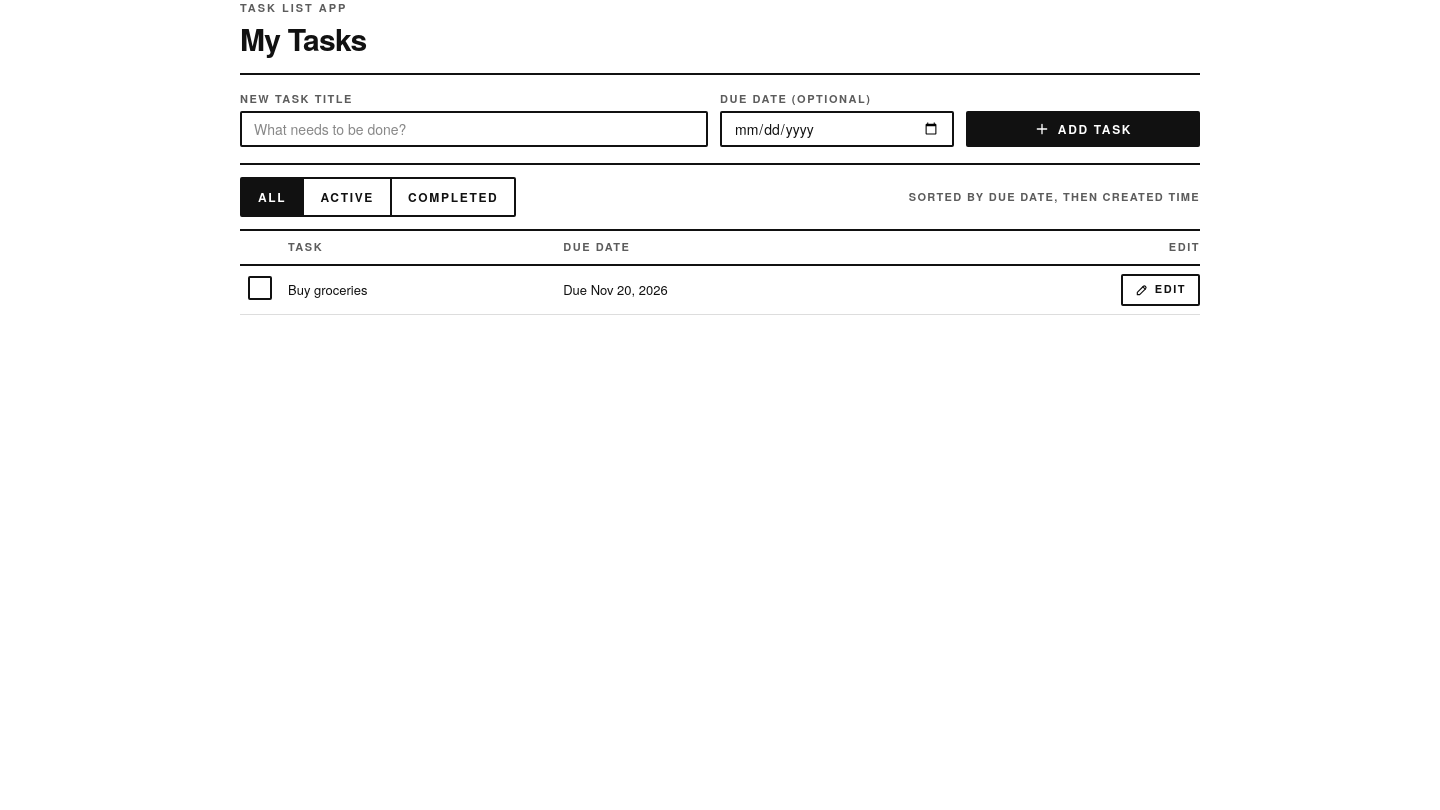
Test: Tasks screen › [handleSave] shows the API validation detail when PATCH /tasks/{id} returns 400
expect the text "Buy groceries" is shown: met, box 288,280 -> 367,299
Click the button named "Edit \"Buy groceries\"". click: coordinates (1160, 290)
box: 1121,274 -> 1200,306
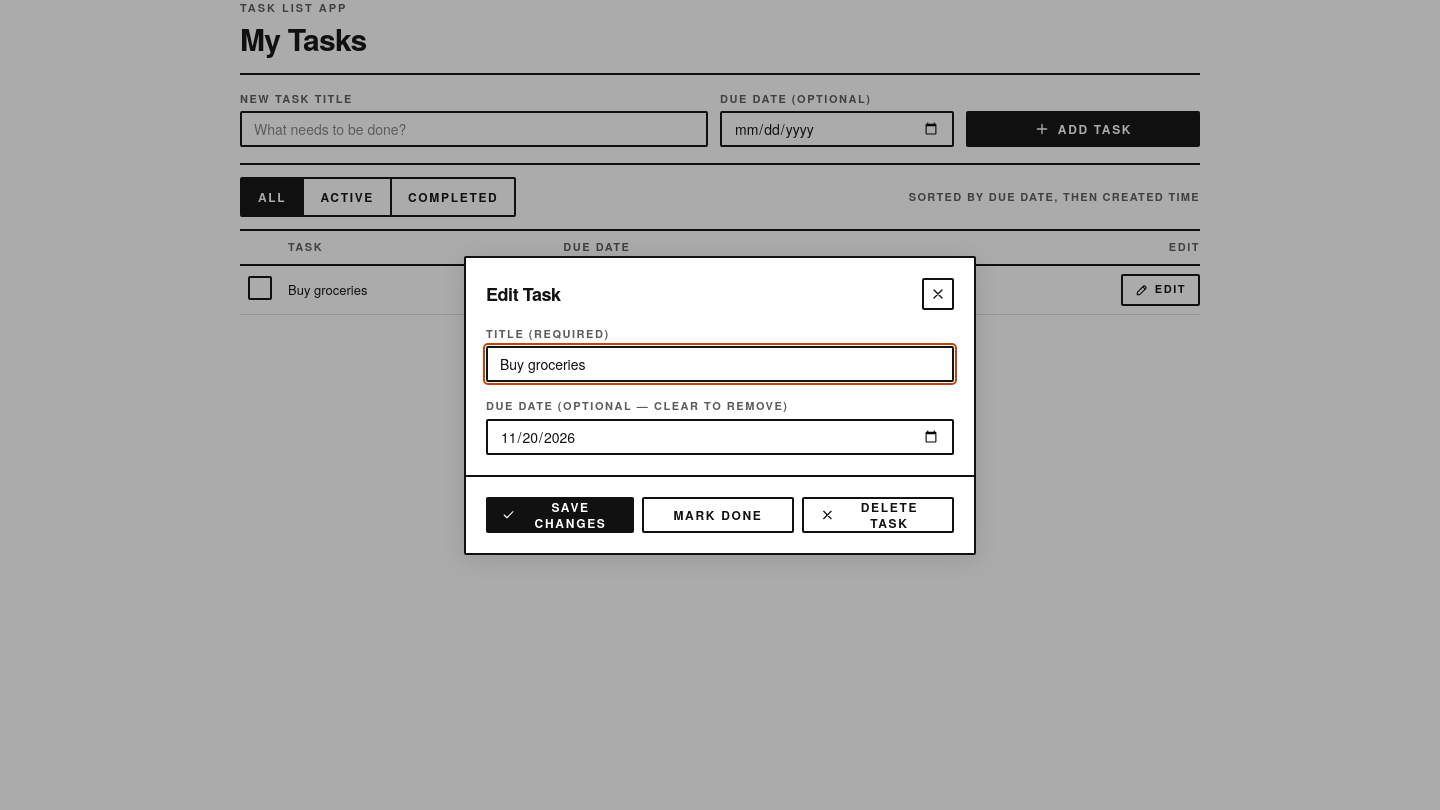
Replace the text in the field labelled "Title (required)" with "New title". click: coordinates (720, 364)
box: 486,346 -> 954,382
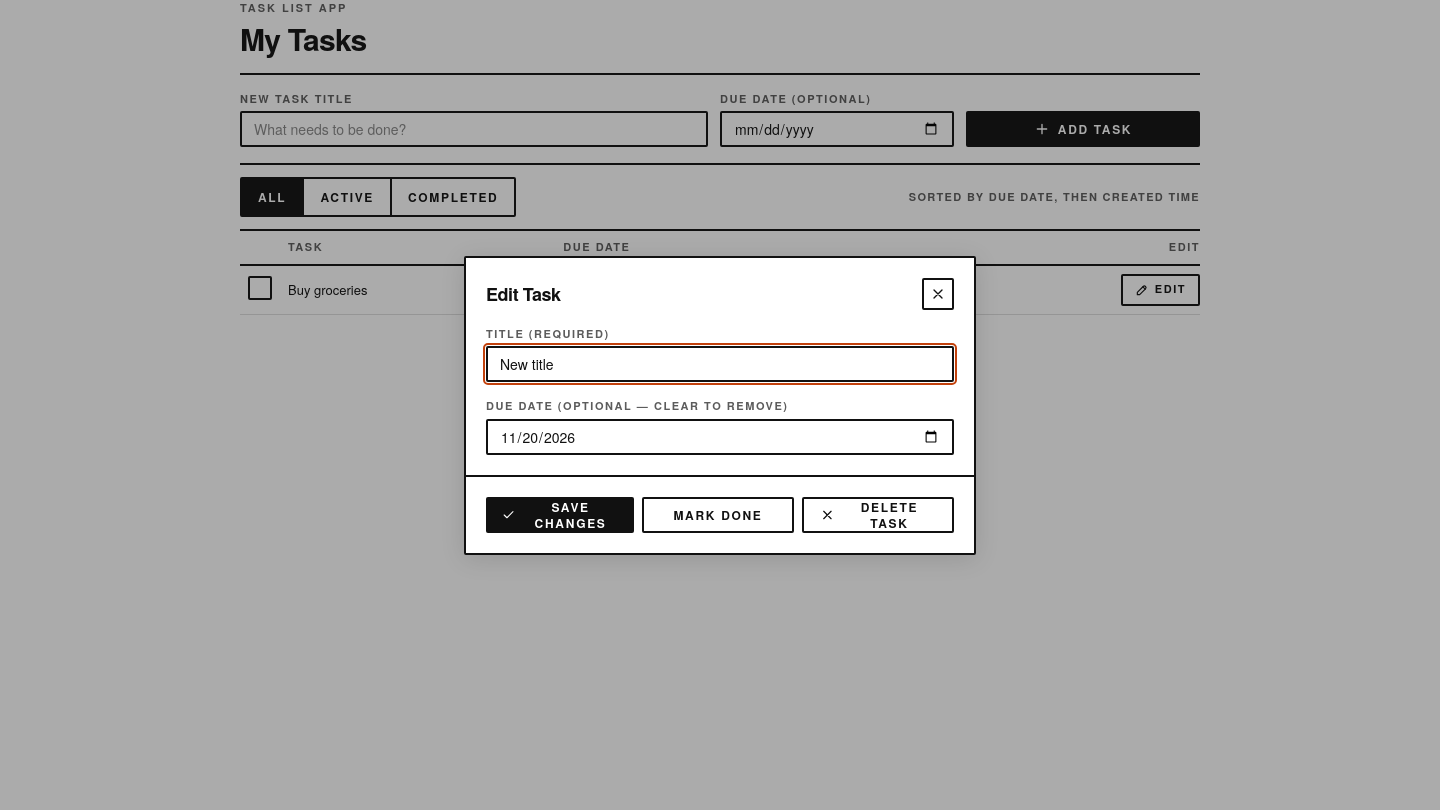
Click the button "Save Changes". click: coordinates (560, 514)
box: 486,496 -> 634,532
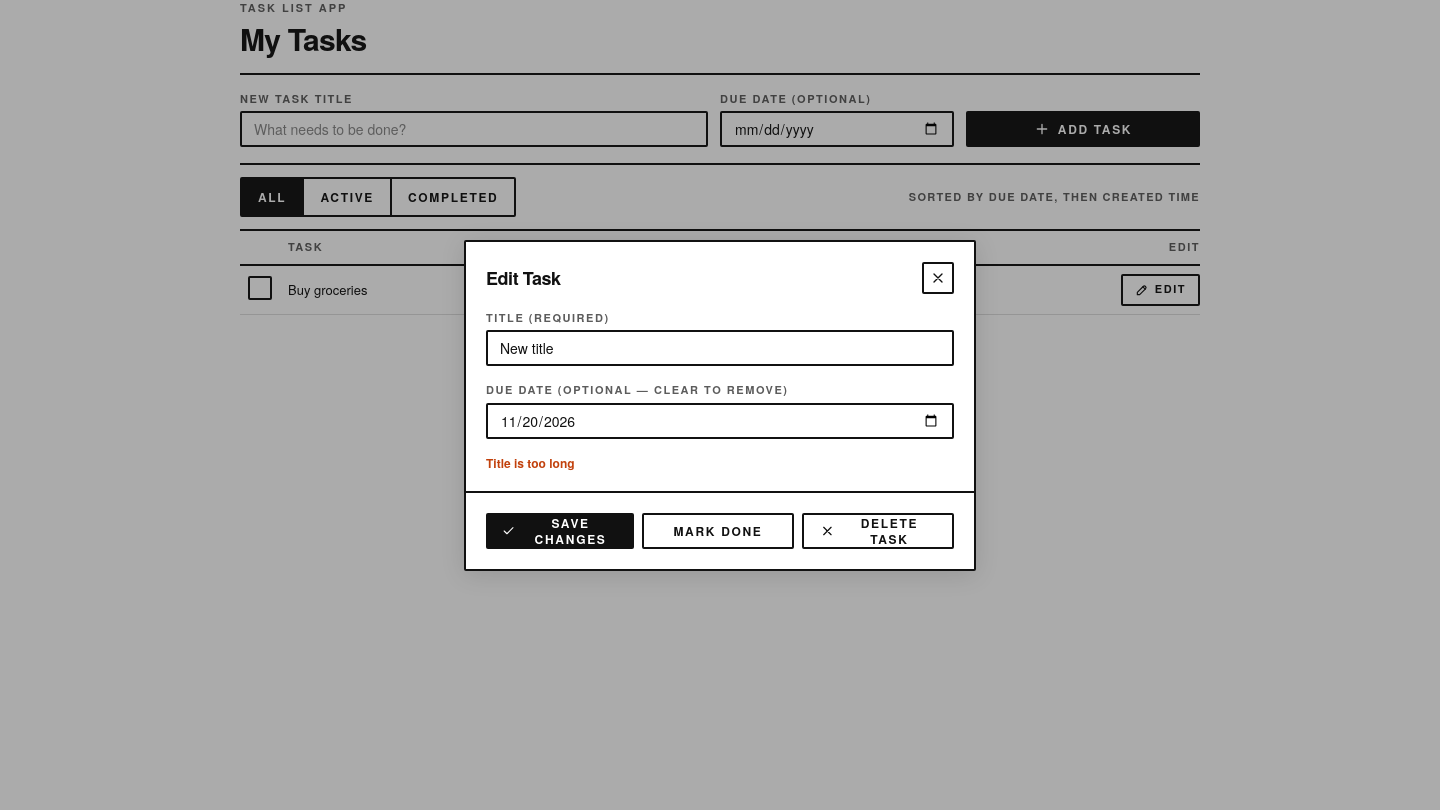
expect the text "Title is too long" is shown: met, box 486,454 -> 575,472
